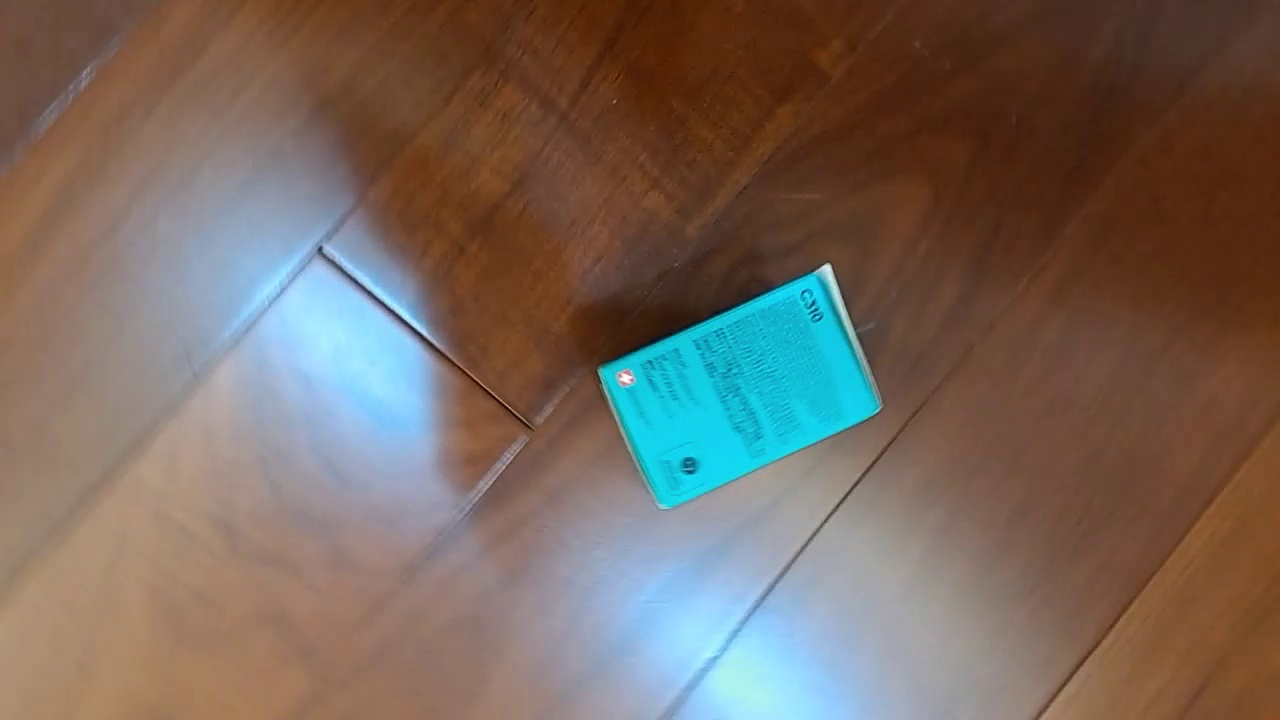webcam: (595, 262, 883, 512)
